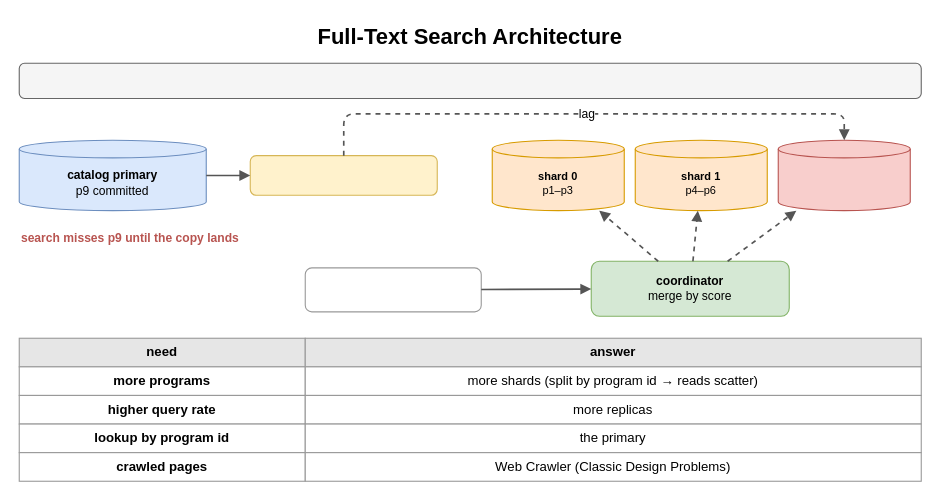
Image size: 941x501. Some labels were removed from this diagram. The centre of each missing label's shape, as x and y in pixels:
"Change Data Capture" belongs at pixel 343 175.
"Commit on the primary, copy into a sharded index, scatter and gather the query" belongs at pixel 469 80.
"search “quay”" belongs at pixel 392 289.
"shard 2 (p9 pending)" belongs at pixel 843 175.
